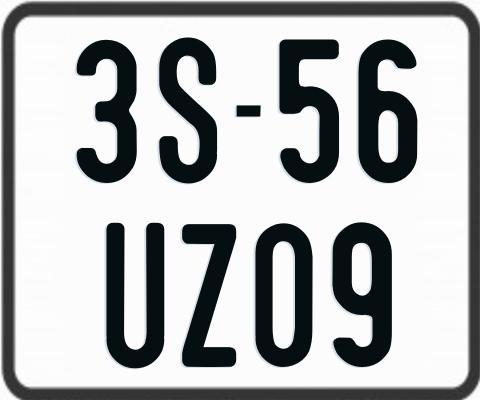0: (253, 221, 317, 366)
3: (76, 39, 141, 182)
5: (276, 39, 341, 182)
6: (358, 39, 418, 186)
9: (332, 220, 394, 365)
S: (157, 38, 221, 185)
U: (106, 221, 168, 369)
Z: (180, 223, 237, 368)
